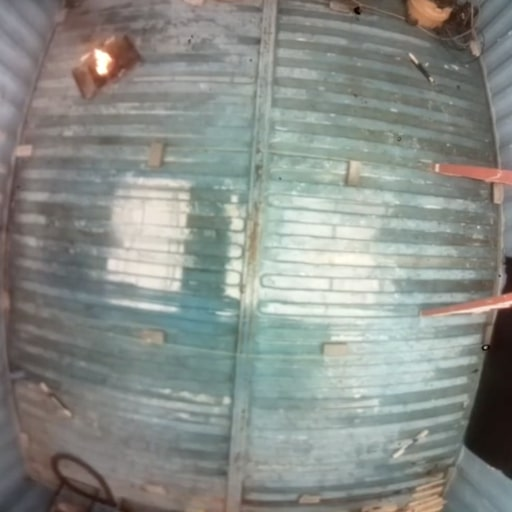Fire: (90, 48, 114, 75)
